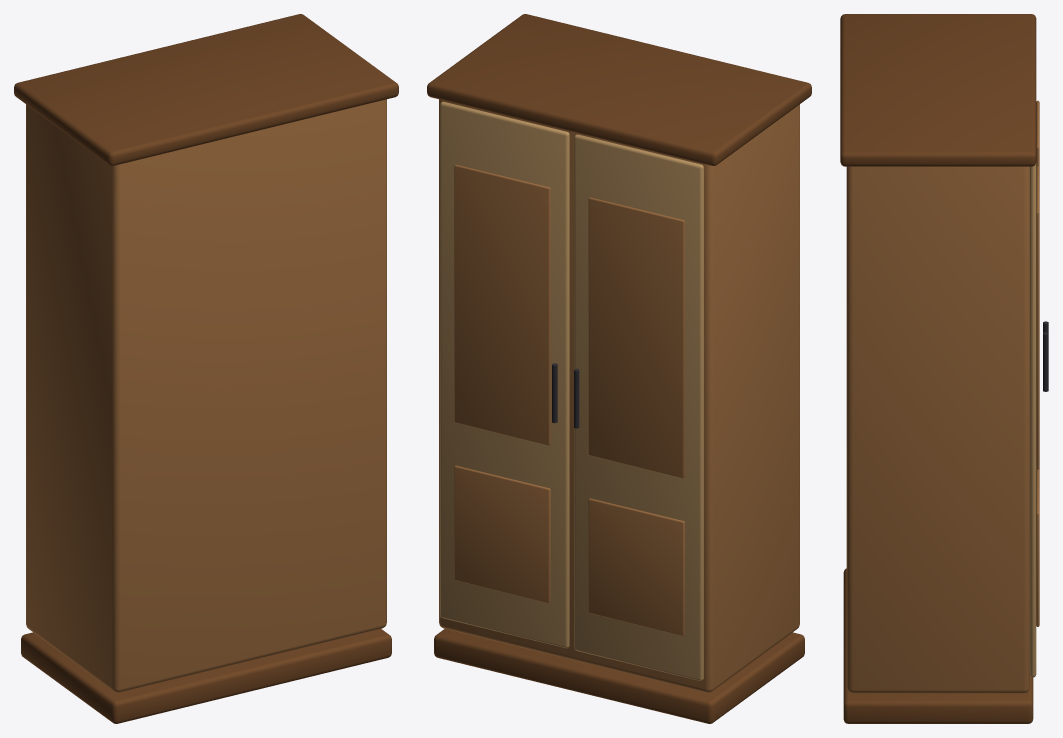
Rendered from wardrobe.glb.
The picture shows the model from 3 angles, left to right: view 1: azimuth 30°, elevation 25°; view 2: azimuth 150°, elevation 25°; view 3: azimuth 270°, elevation 25°; orthographic projection.
Visible parts, largest first — view 1: wardrobe; view 2: wardrobe; view 3: wardrobe.
Boxes of the visible parts, x1,y1,x2,y2 form: wardrobe: (14, 14, 398, 723); wardrobe: (427, 14, 811, 723); wardrobe: (840, 14, 1048, 723).
Bounding box in the file's own units: 1.06 × 2.01 × 0.6587.
